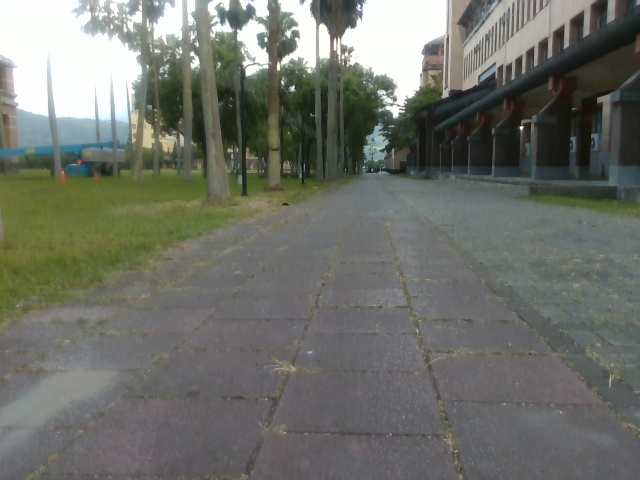grass: (69, 0, 441, 200), (0, 168, 353, 332)
road: (0, 175, 639, 479)
